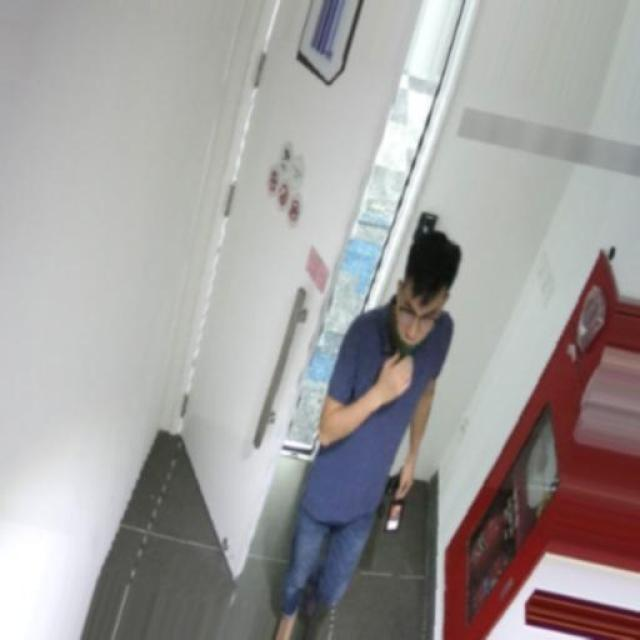hairnet: (393, 293, 439, 357)
